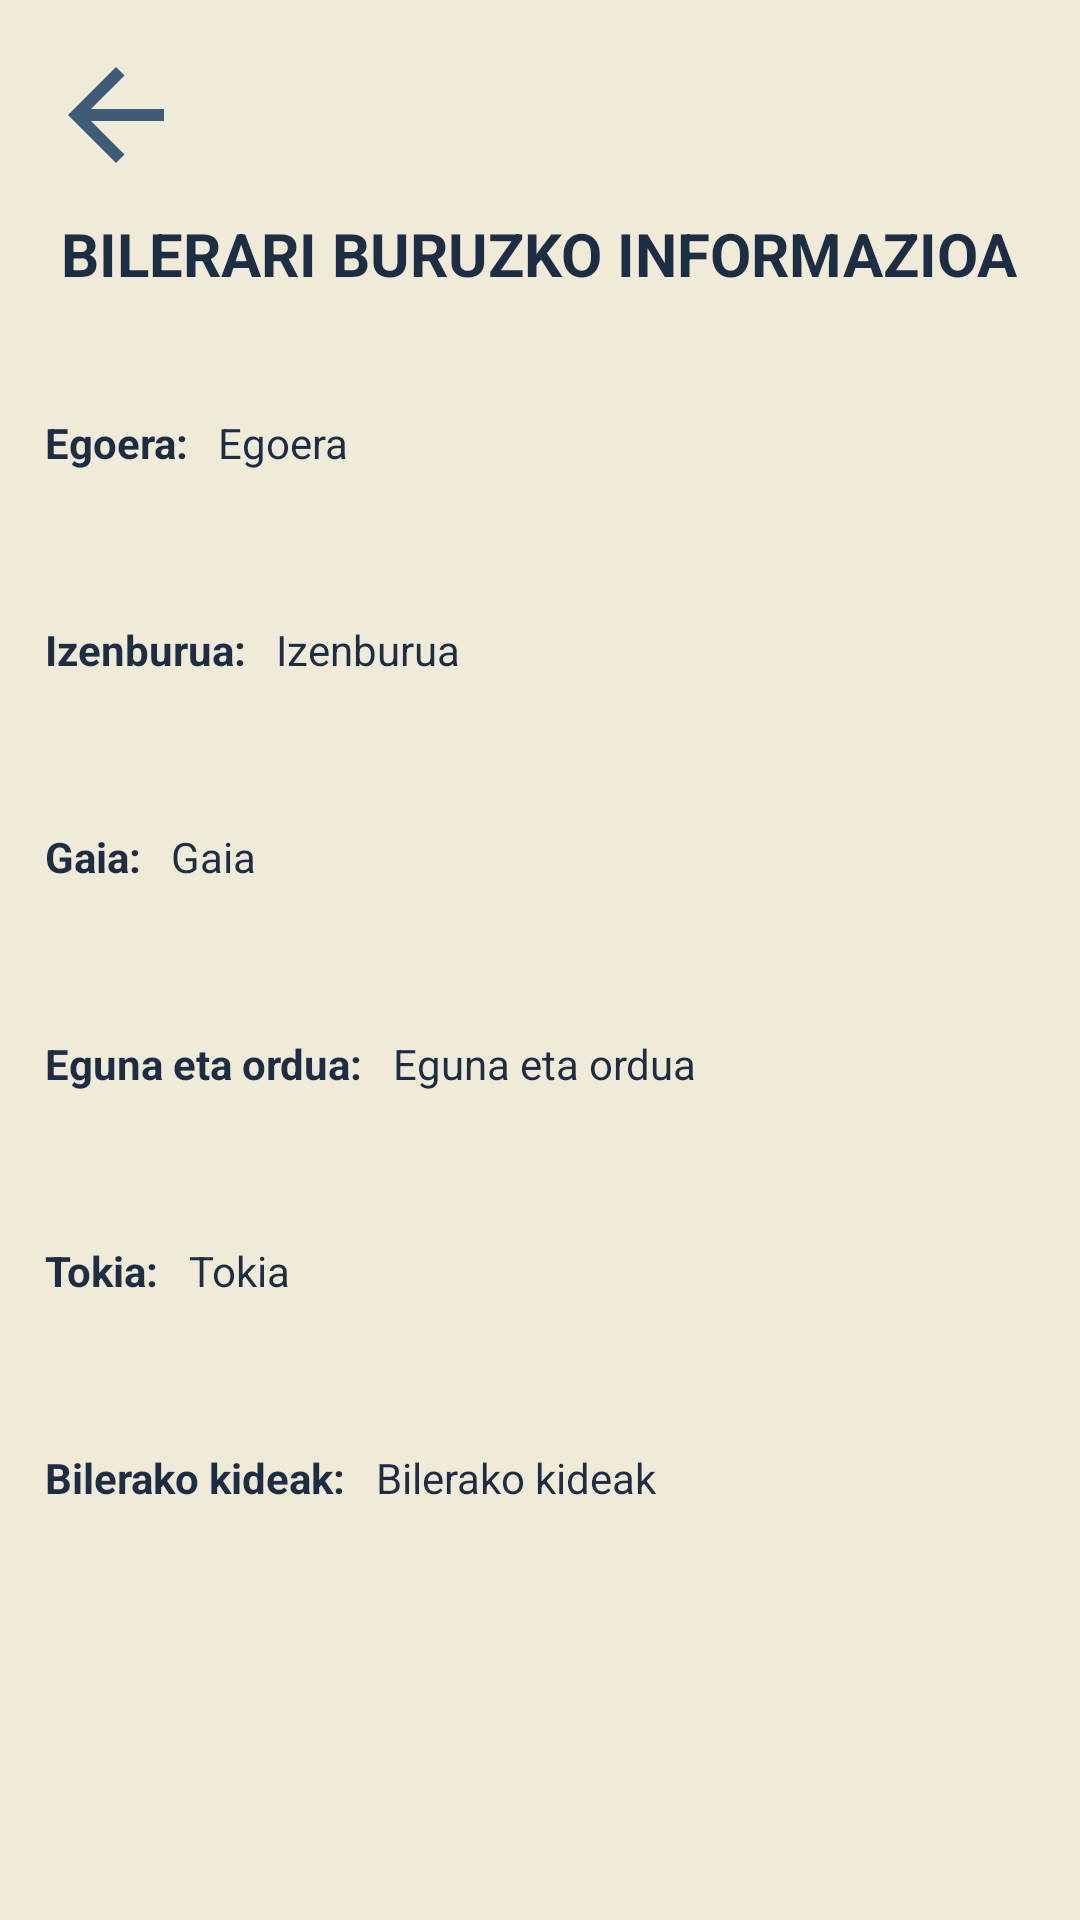

Icon click points for this 1080px x 1920px phone screenshot, format (x=x, y=y):
Itzultzeko botoia: (x=116, y=115)
